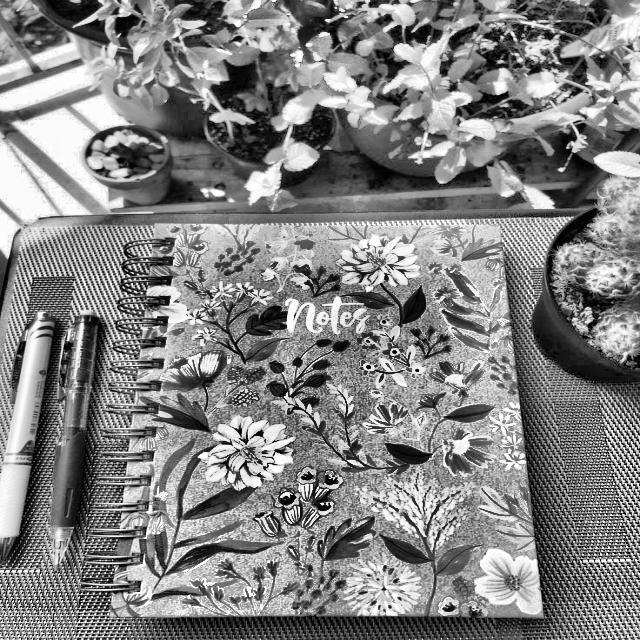Notebook: (84, 221, 542, 620)
Pen: (16, 314, 100, 573), (0, 315, 60, 568)
